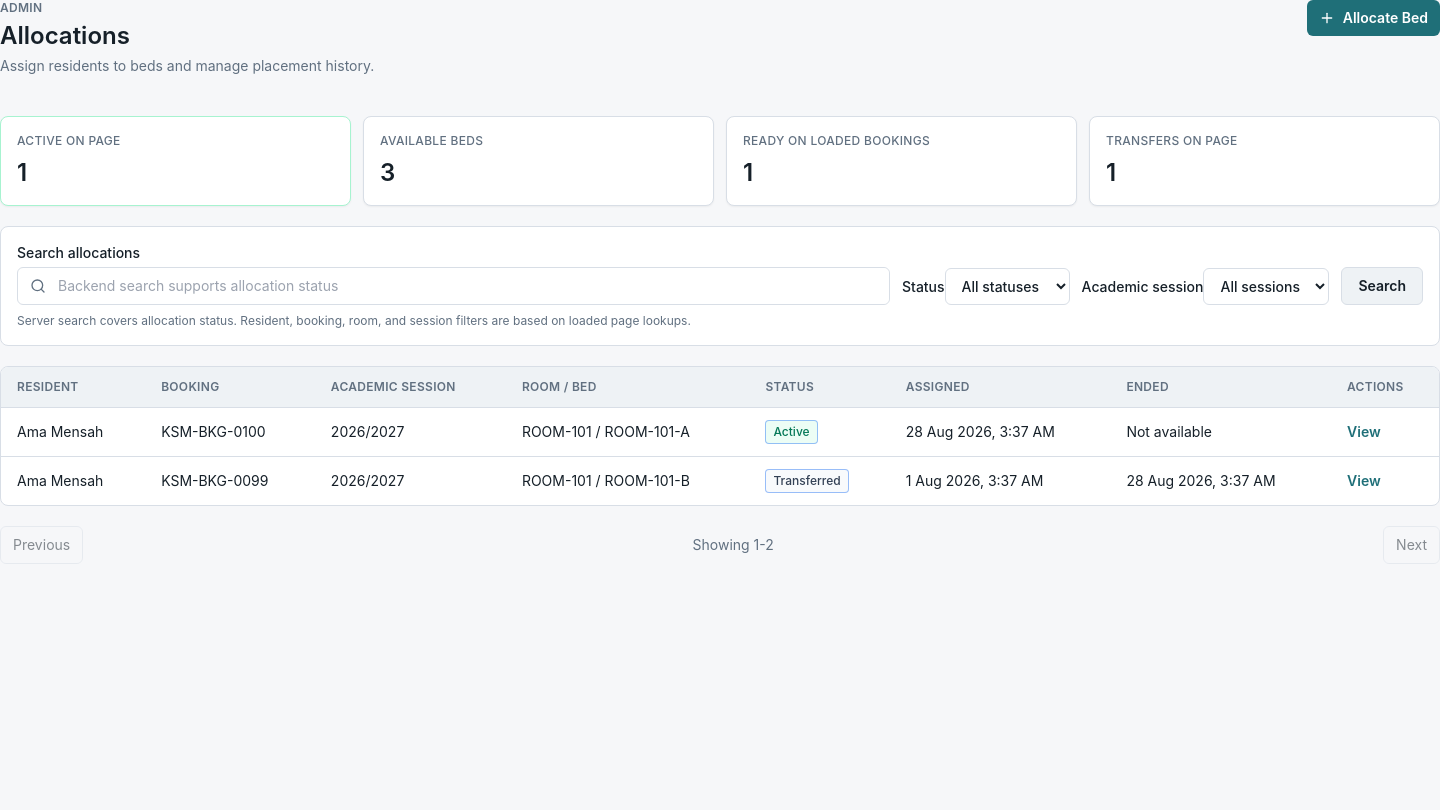
it: AllocationsPage › surfaces allocation create failure
Click the button "Allocate Bed": (1373, 18) 1307,0 -> 1439,36
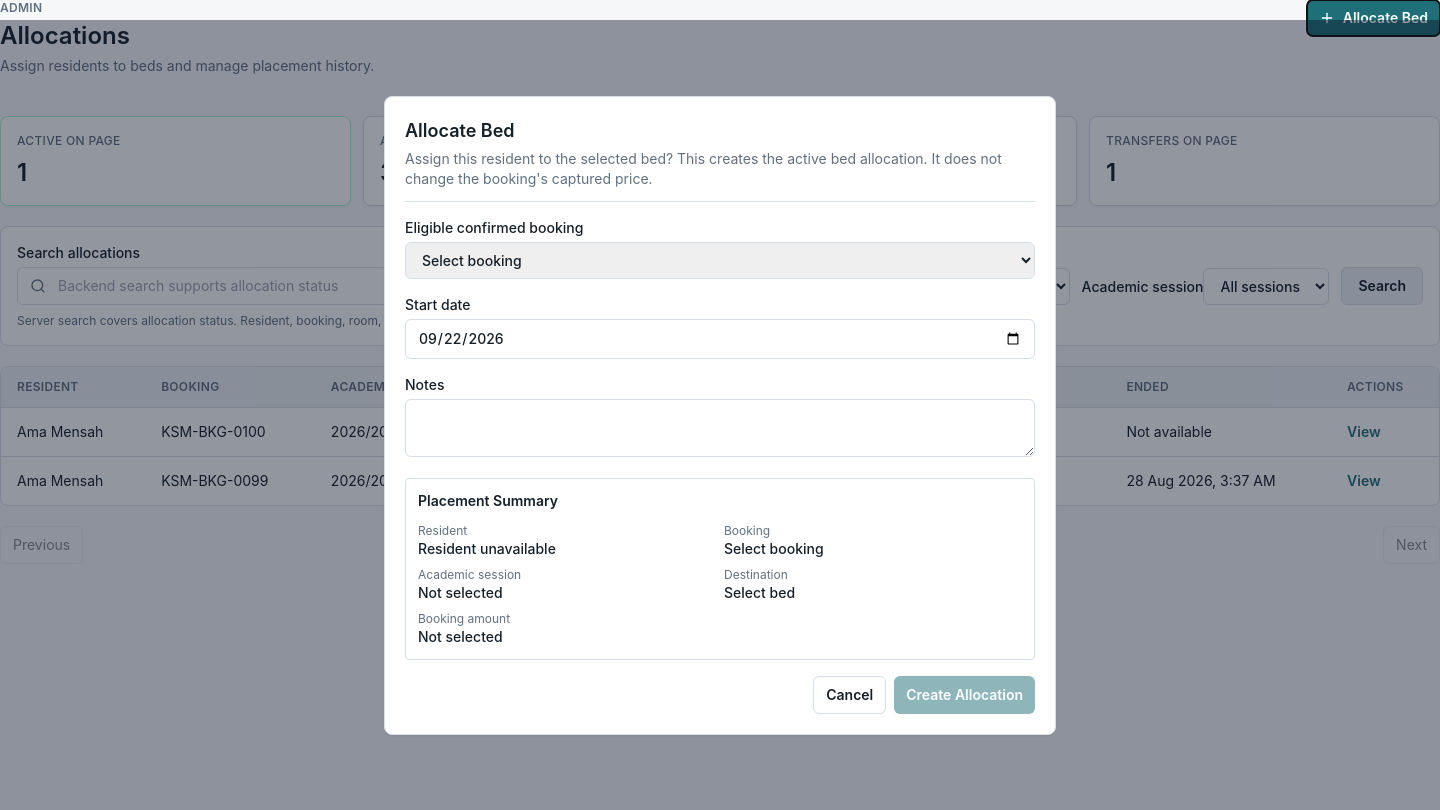
Select "KSM-BKG-0102 - Efua Adjei" in the dropdown named "Eligible booking": (720, 260) 405,242 -> 1035,278
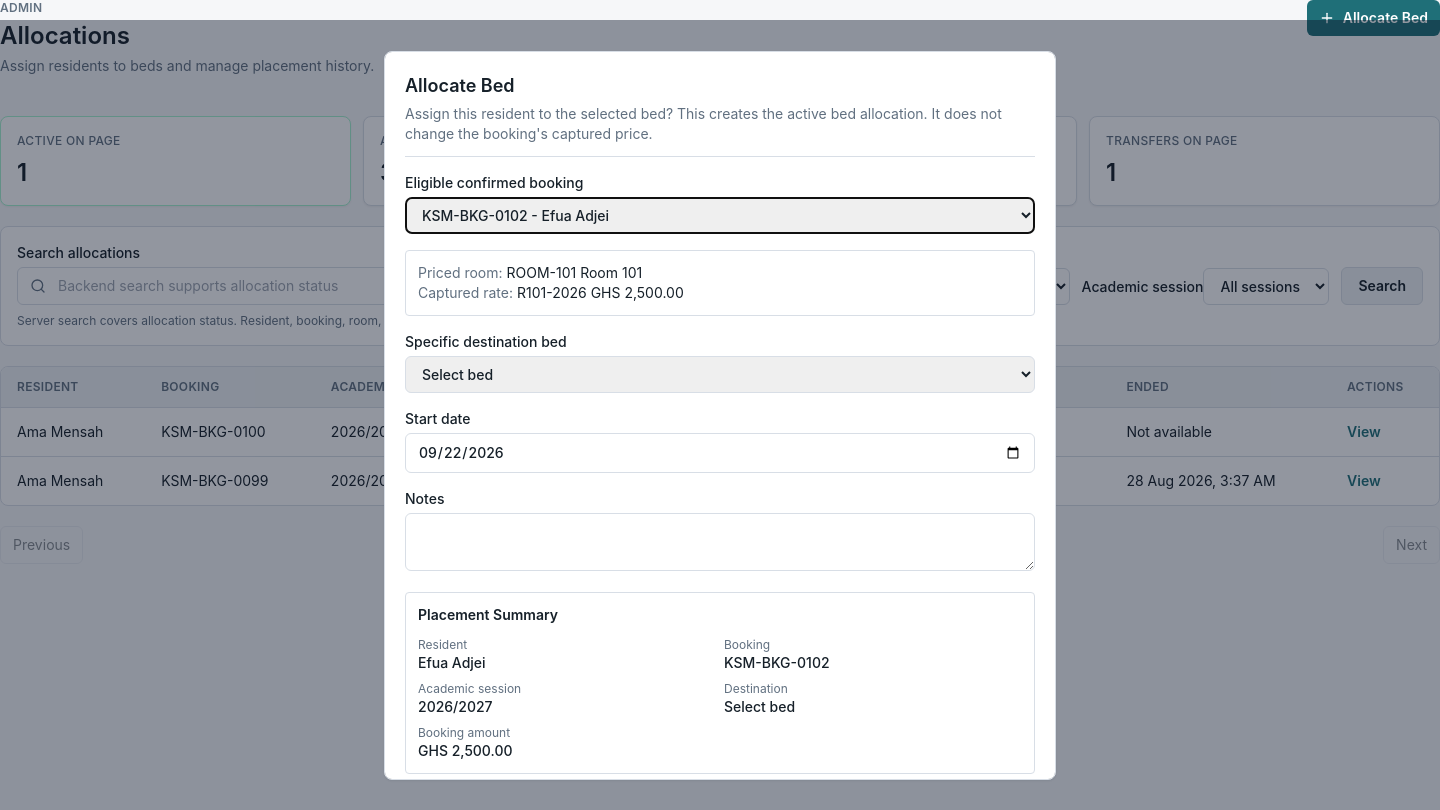
Select "ROOM-102 / ROOM-102-A - GHS 2,500.00" in the dropdown labelled "destination bed": (720, 374) 405,356 -> 1035,392
(page scrolled)
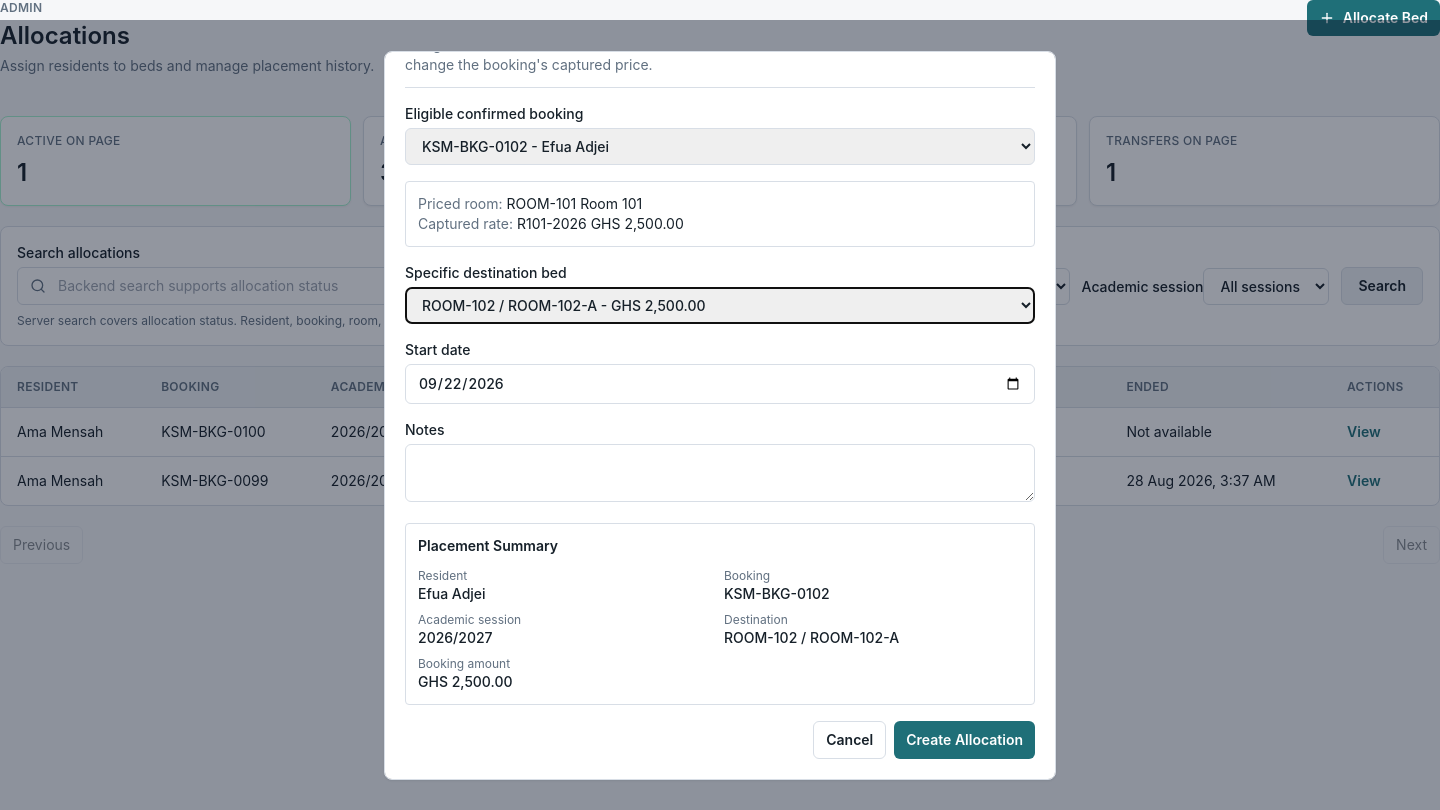
Click the button "Create Allocation": (965, 740) 894,720 -> 1035,758
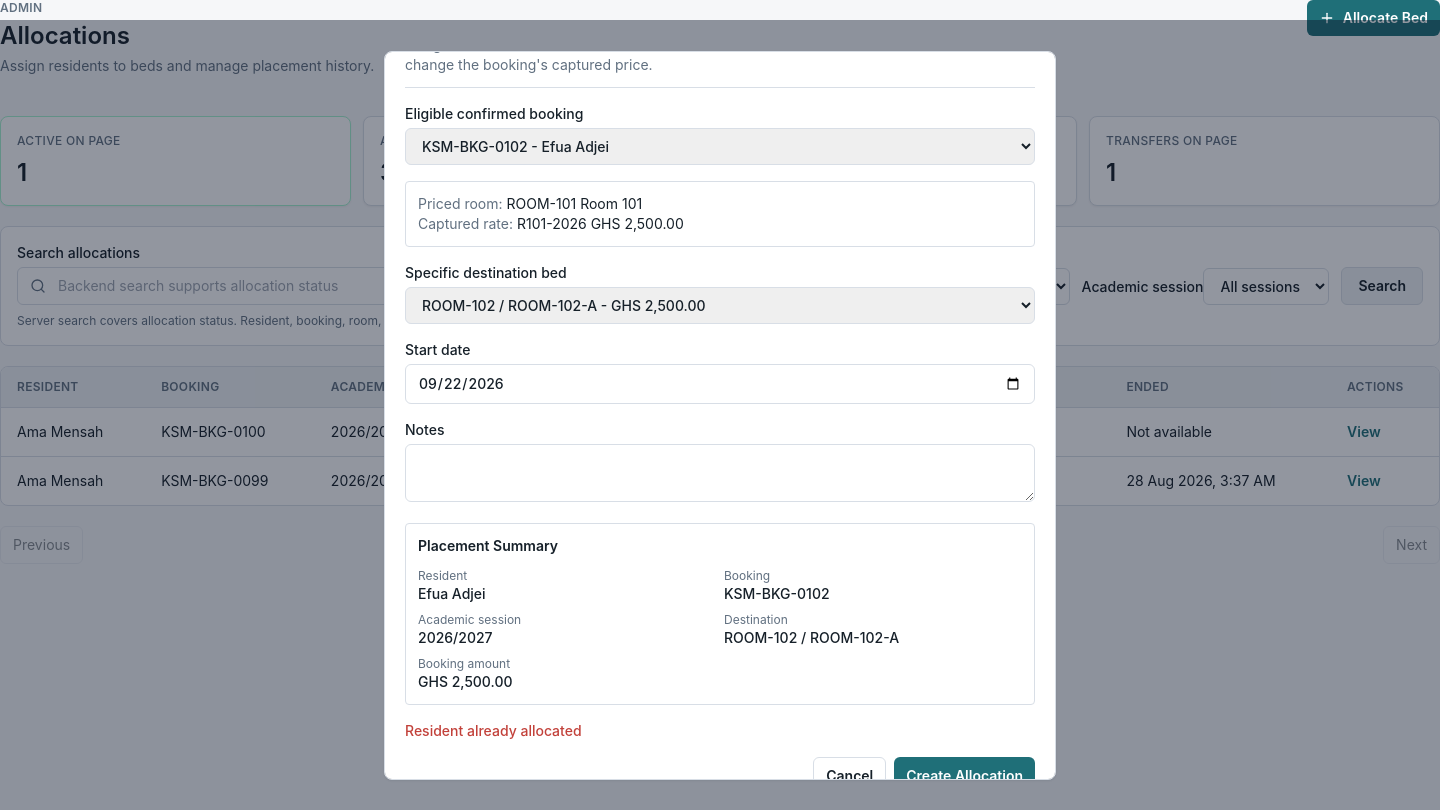
Result: the message reads "Resident already allocated" at 405,722 -> 582,738
